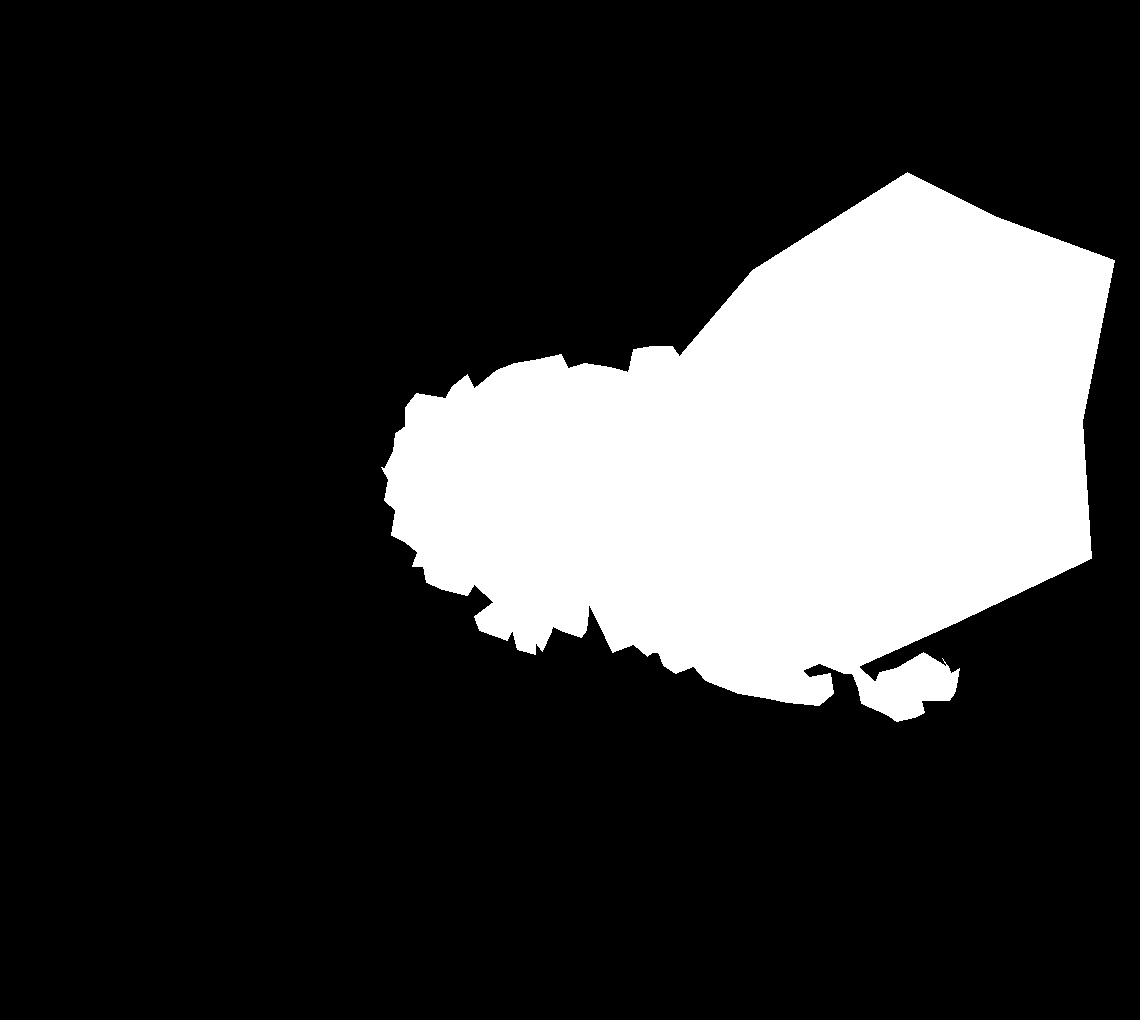Fire: (431, 393, 818, 688), (858, 659, 958, 717)
